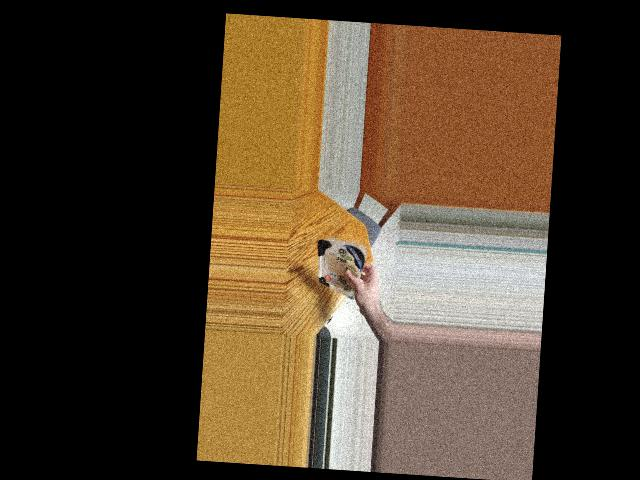cheese: (317, 234, 369, 289)
